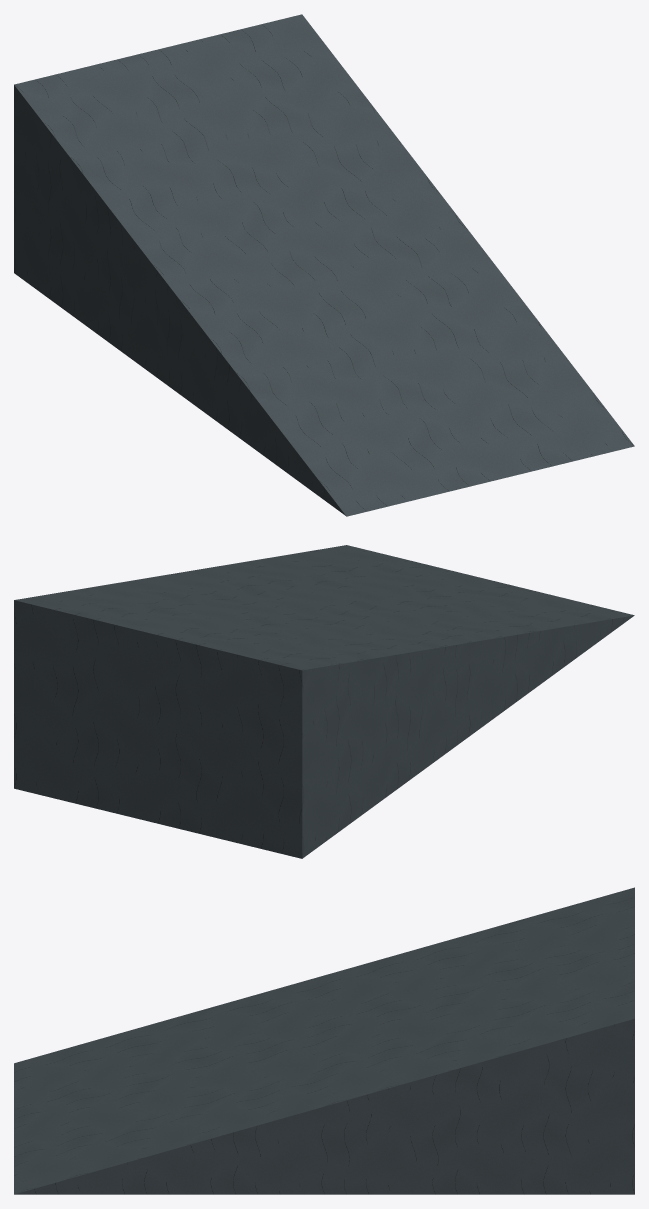
File: Platform_Ramp4x8.fbx
3 renders of one model, top to bottom at view 1: azimuth 30°, elevation 25°; view 2: azimuth 150°, elevation 25°; view 3: azimuth 270°, elevation 25°, orthographic. The views are drawn at different scales.
Visible parts, largest first — view 1: COL_Foundry_Platform_Ramp4x8_00_Both; view 2: COL_Foundry_Platform_Ramp4x8_00_Both; view 3: COL_Foundry_Platform_Ramp4x8_00_Both.
Boxes of the visible parts, x1,y1,x2,y2 form: COL_Foundry_Platform_Ramp4x8_00_Both: [14, 14, 634, 516]; COL_Foundry_Platform_Ramp4x8_00_Both: [14, 545, 634, 858]; COL_Foundry_Platform_Ramp4x8_00_Both: [14, 887, 634, 1194].
Size of what is drawn, in the model's own units: 4 by 2.5 by 8.
